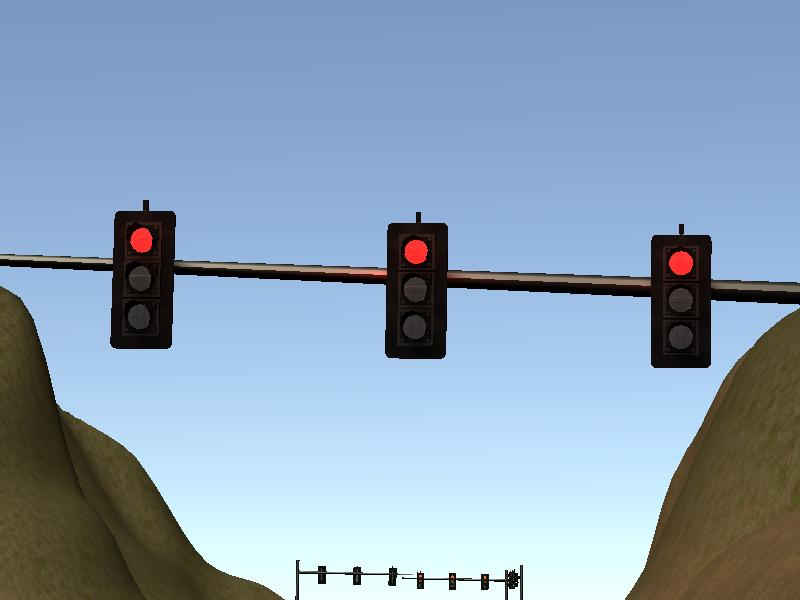red: (110, 210, 173, 350), (650, 235, 712, 369), (386, 222, 446, 359)
